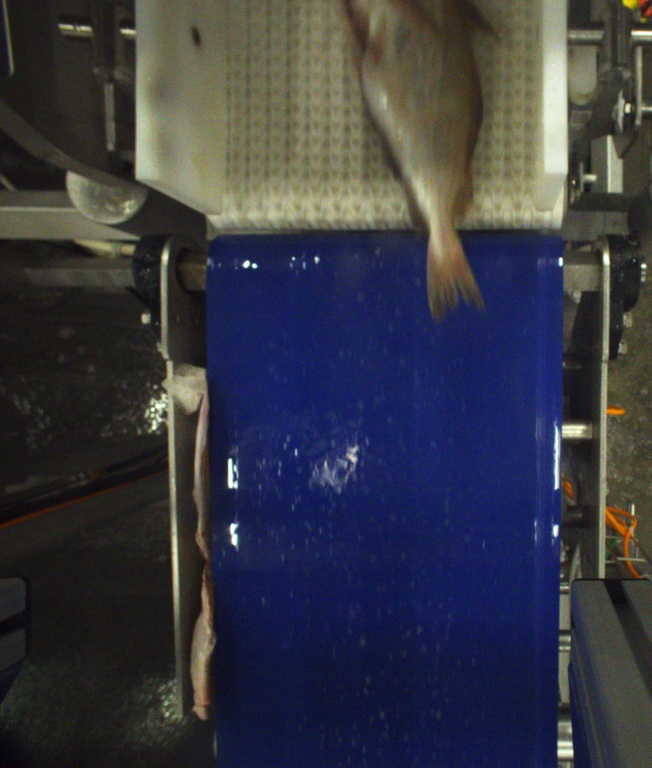BIB: (344, 0, 488, 318)
